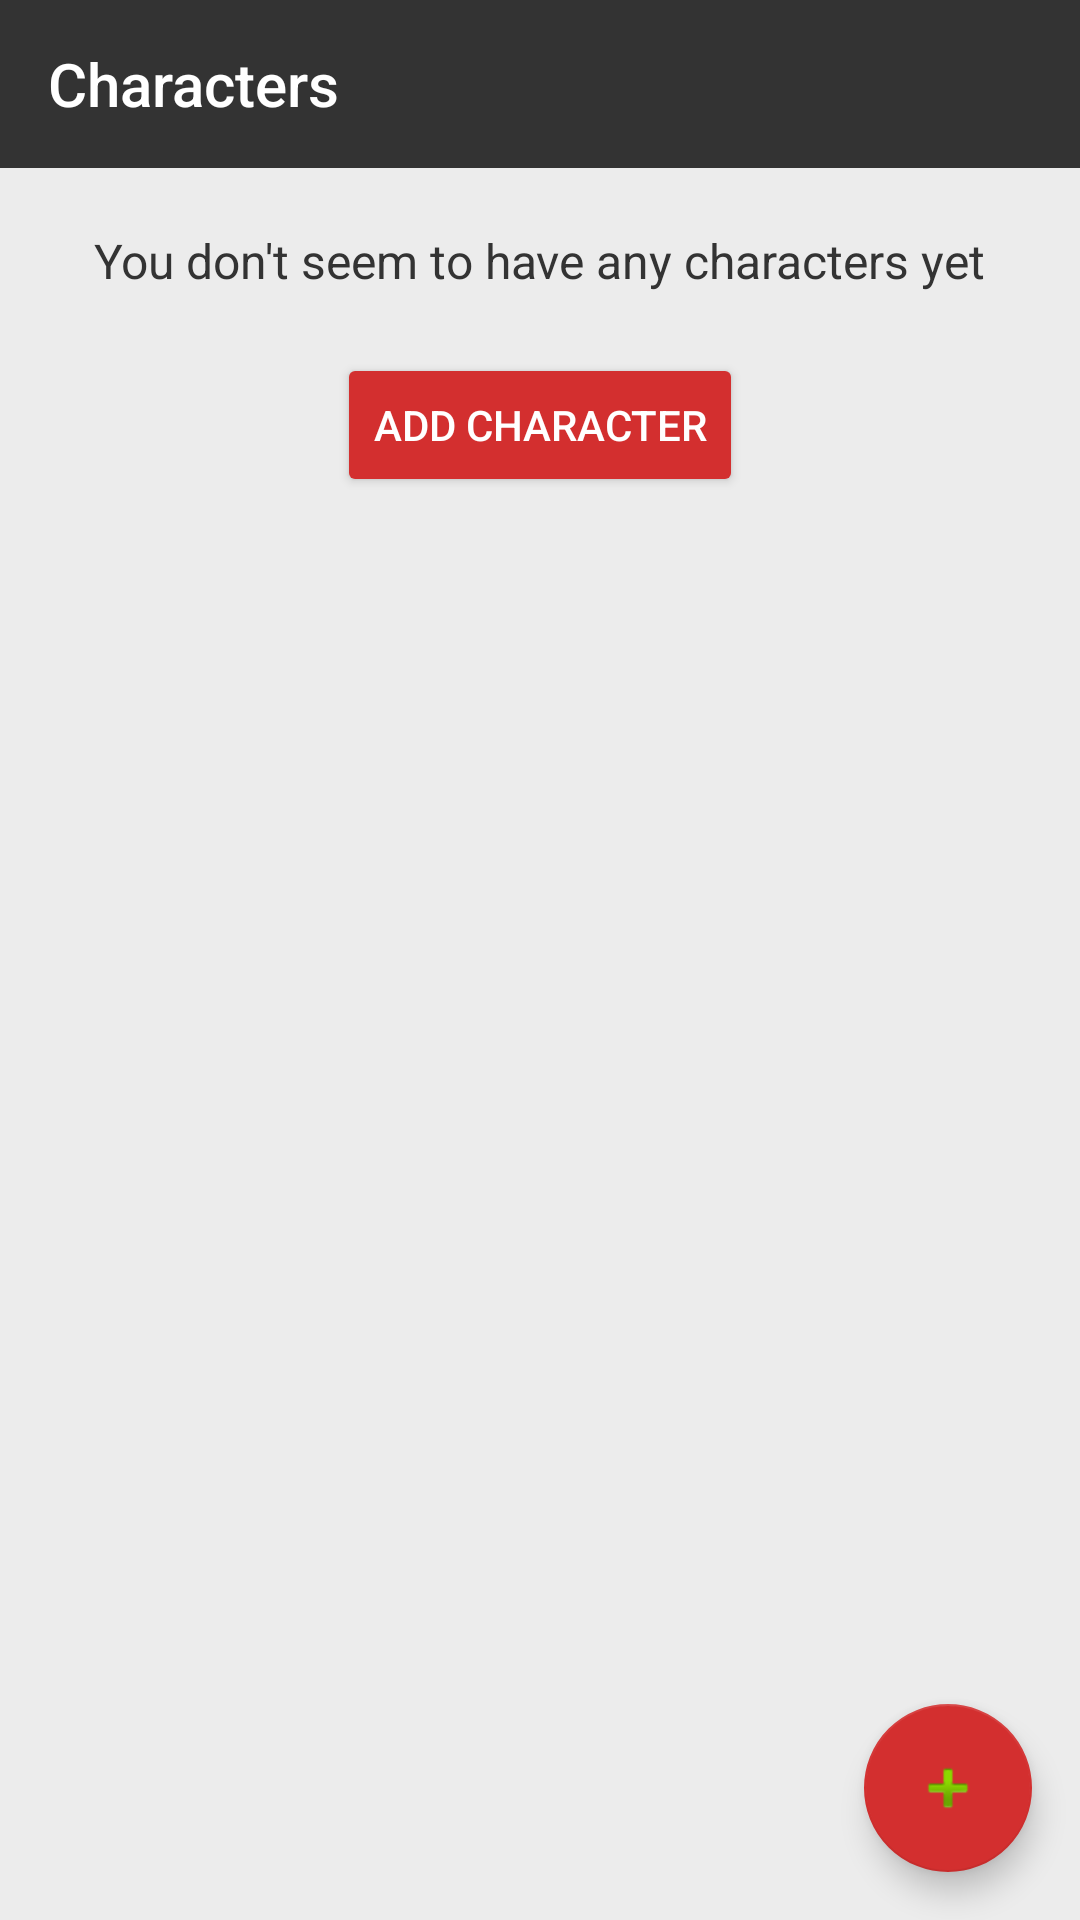

Locate icon controls on the screen. Image size 1080 × 1920, boxes as rect(x1, y1, x2, y2).
Add Character: rect(864, 1704, 1032, 1872)
